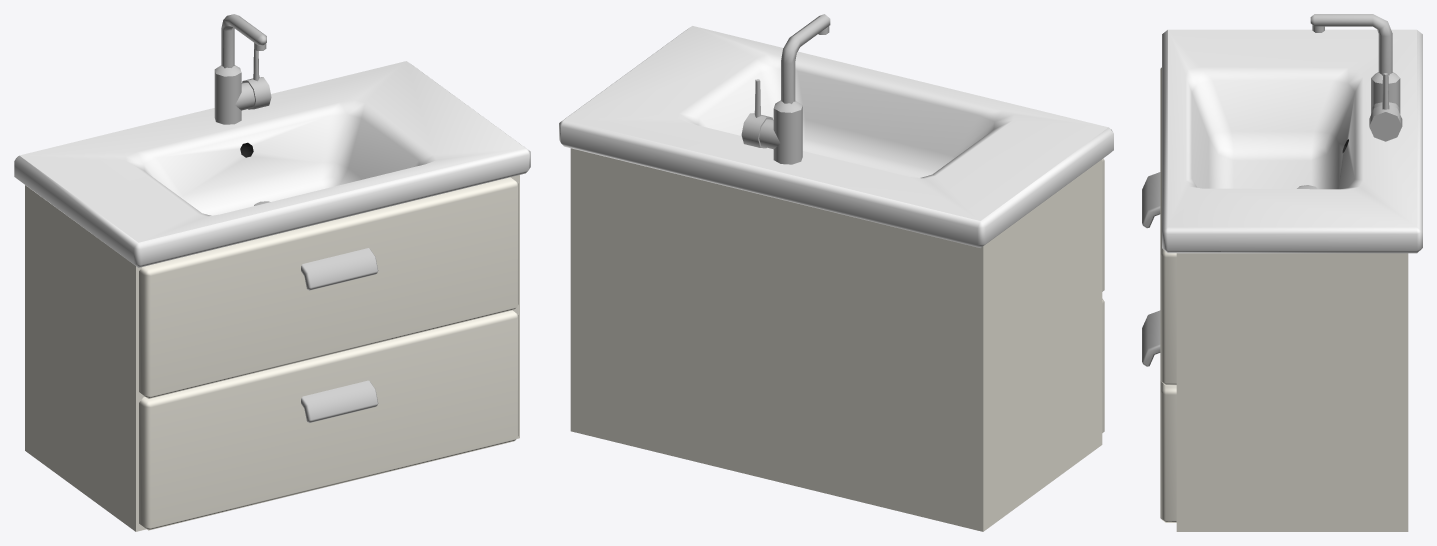
The model's file is bathroom_004.fbx.
The picture shows the model from 3 angles, left to right: view 1: azimuth 30°, elevation 25°; view 2: azimuth 150°, elevation 25°; view 3: azimuth 270°, elevation 25°; orthographic projection. The views are drawn at different scales.
Parts seen in each view (by area): view 1: bathroom_004; view 2: bathroom_004; view 3: bathroom_004.
Part boxes in pixels (box(x1,y1,x2,y2)): bathroom_004: box(14, 14, 530, 531); bathroom_004: box(559, 14, 1113, 531); bathroom_004: box(1142, 14, 1422, 531).
Size of the model in its own units: 110 by 64.43 by 106.
